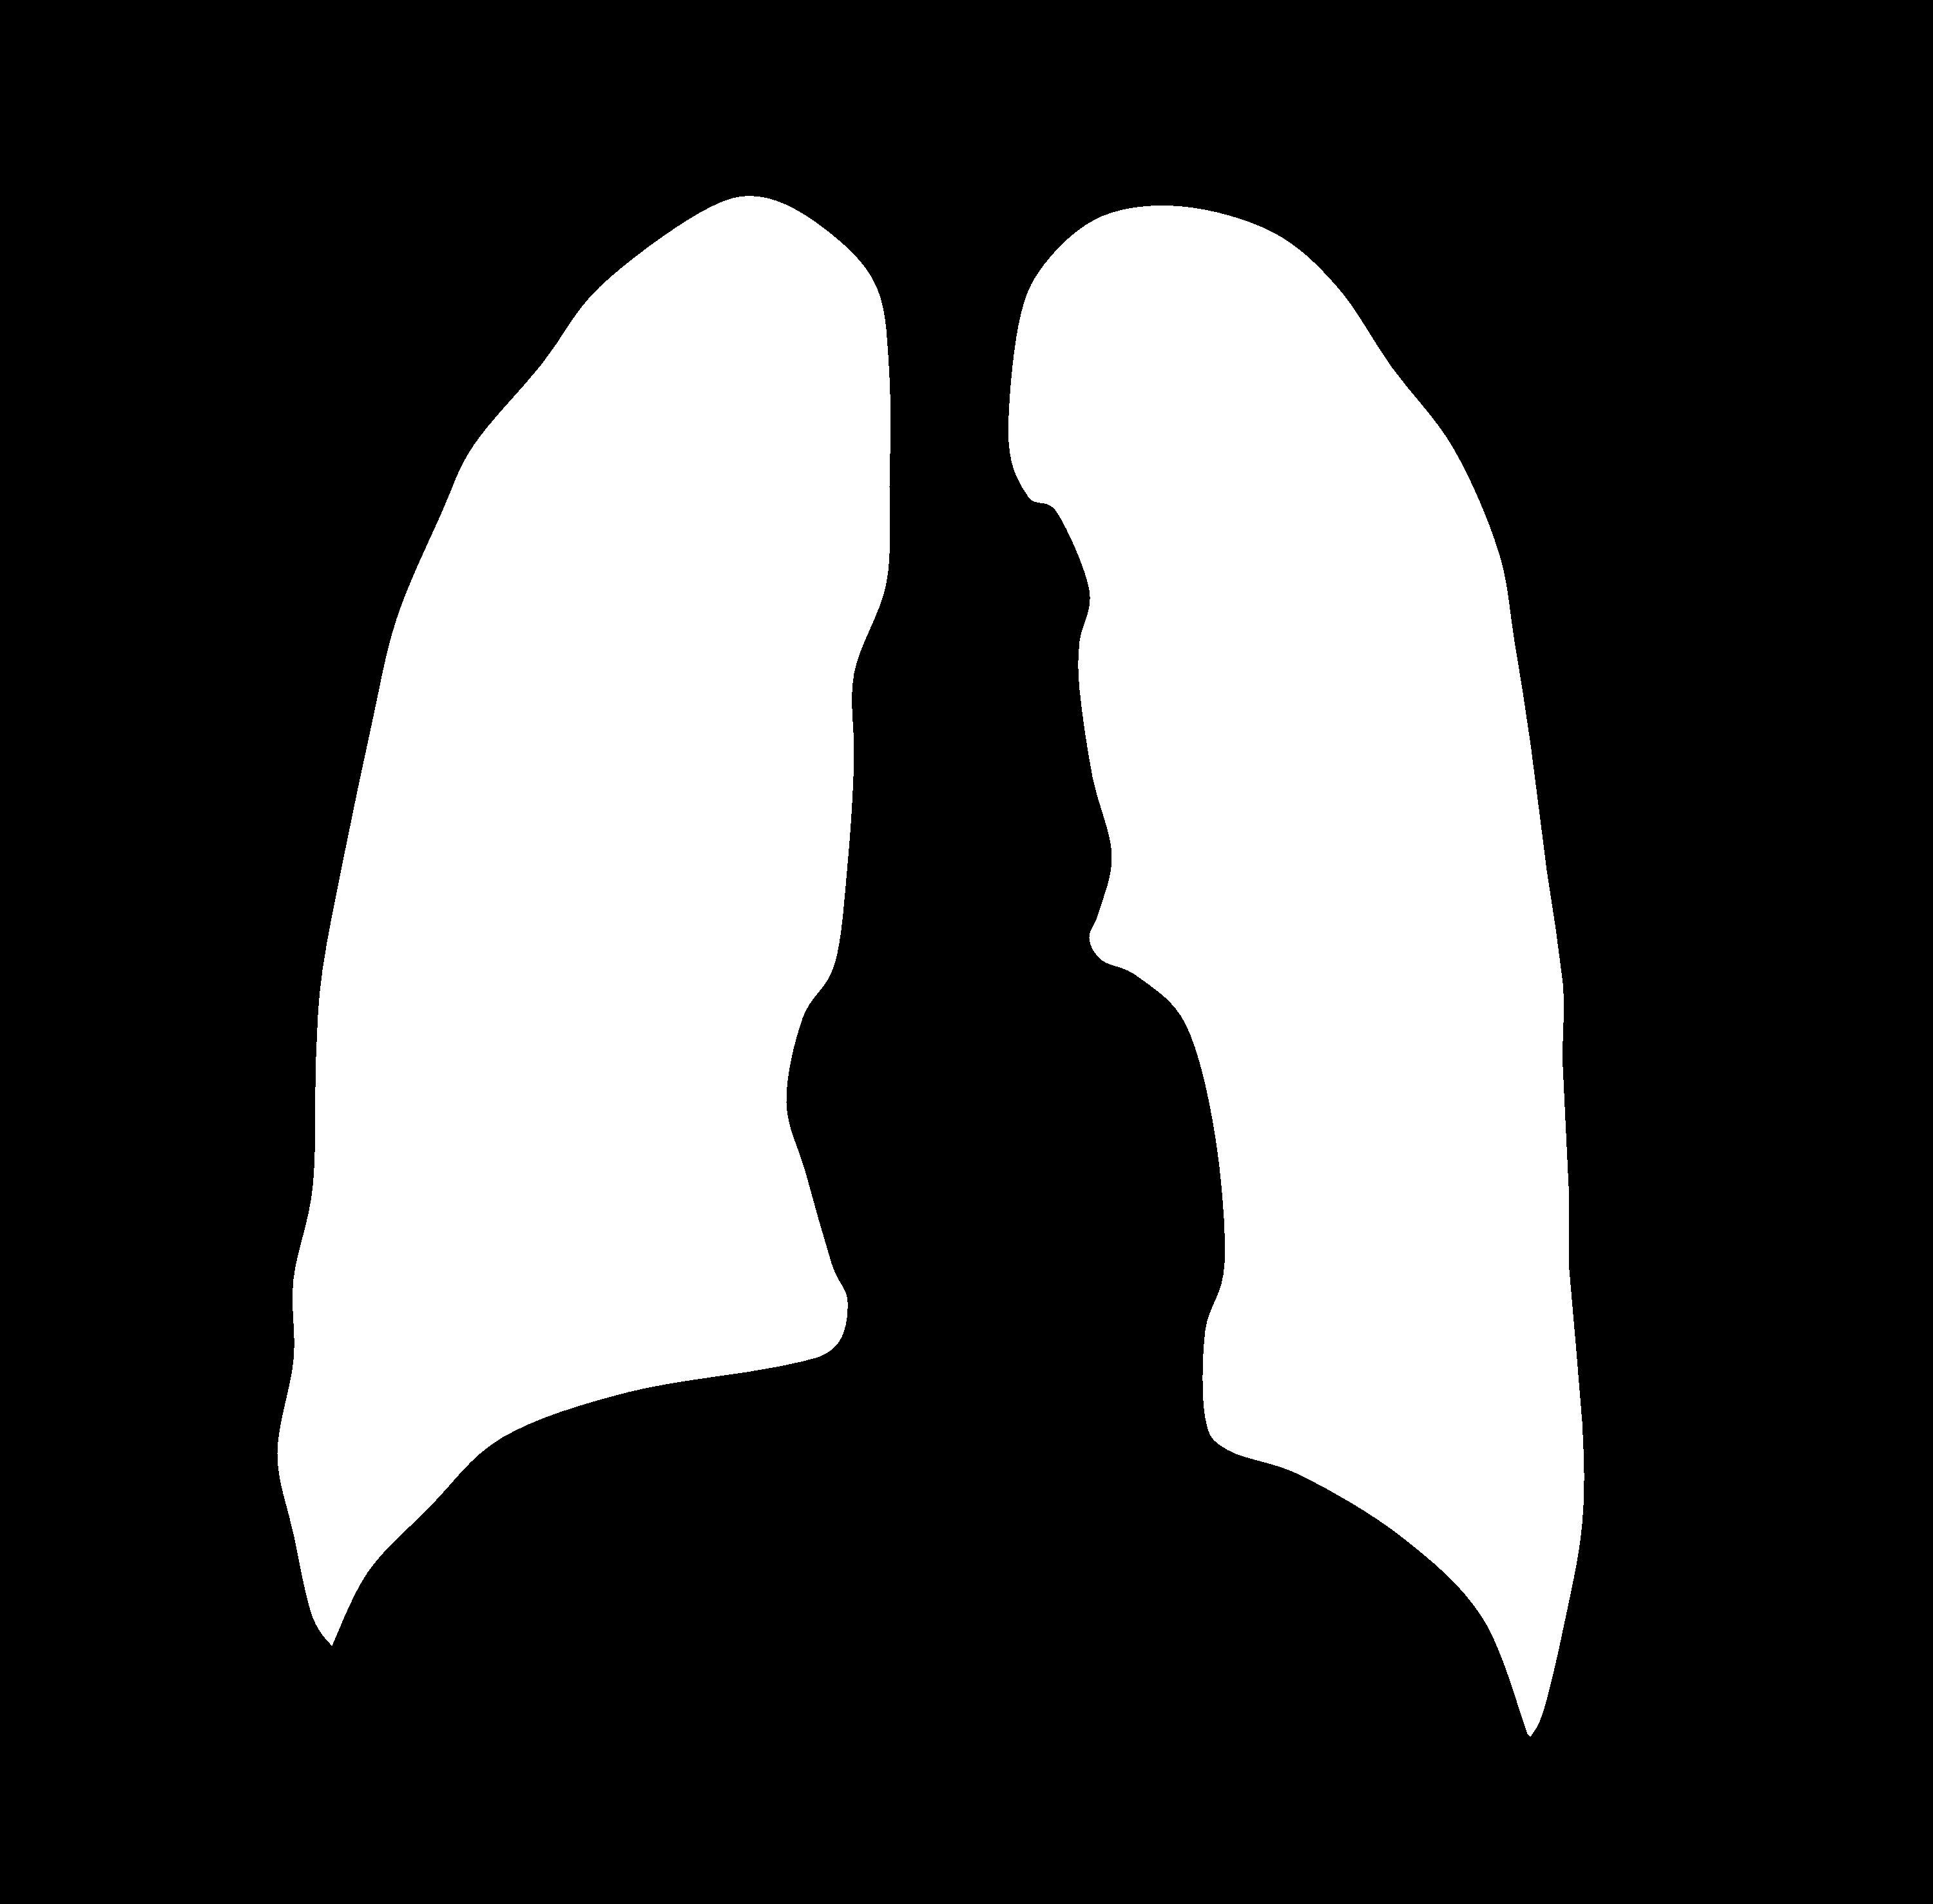heart: (783, 933, 1236, 1398)
left_lung: (277, 195, 891, 1663)
right_lung: (1009, 206, 1584, 1731)
